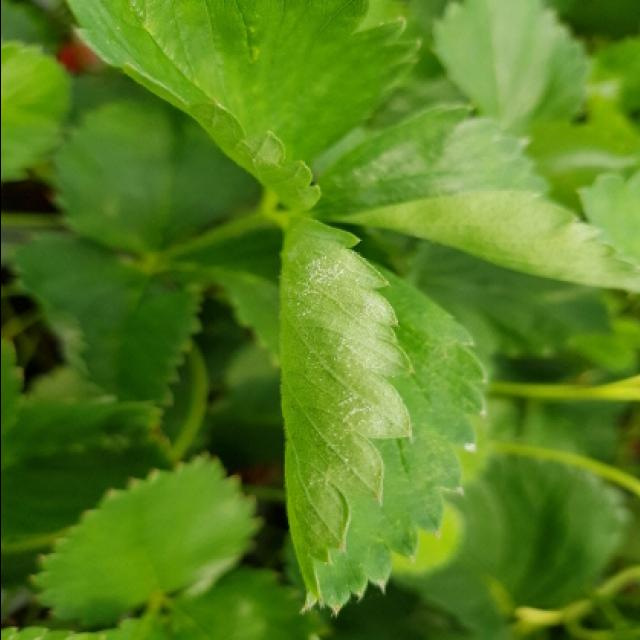Powdery Mildew Leaf: (279, 216, 486, 616)
